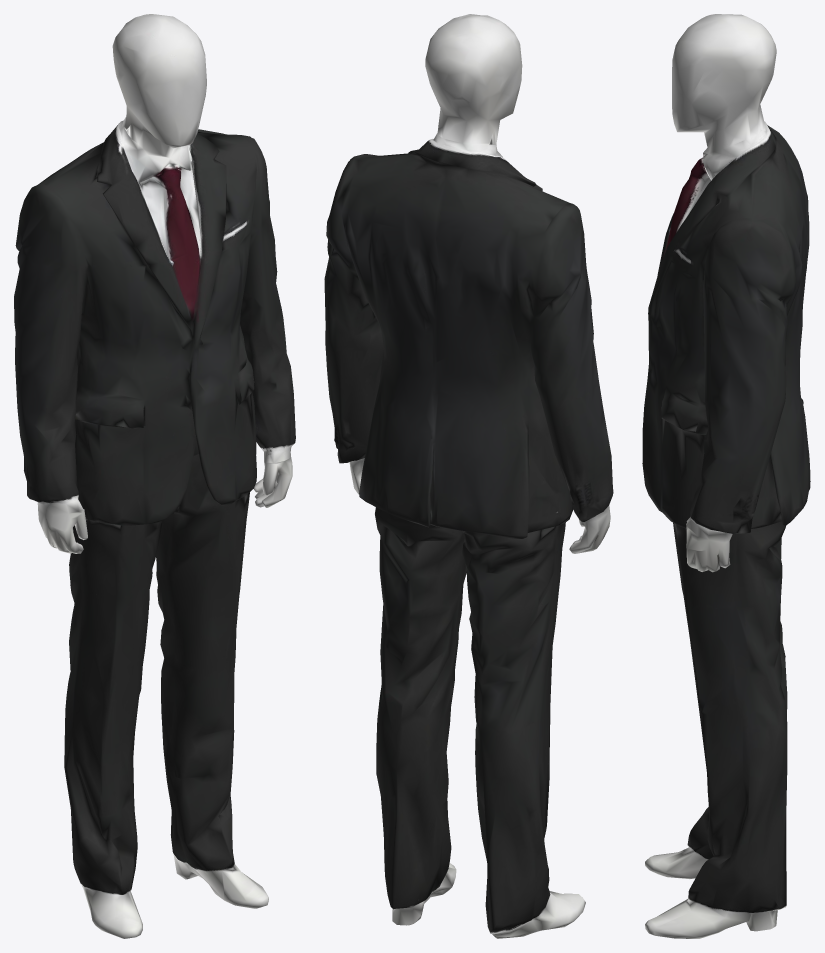
File: mannequin-suit.glb
3 renders of one model, left to right at view 1: azimuth 30°, elevation 25°; view 2: azimuth 150°, elevation 25°; view 3: azimuth 270°, elevation 25°, orthographic. The views are drawn at different scales.
Parts seen in each view (by area): view 1: tripo_node_206fcfdc-de7b-417b-9b12-4215abf30417; view 2: tripo_node_206fcfdc-de7b-417b-9b12-4215abf30417; view 3: tripo_node_206fcfdc-de7b-417b-9b12-4215abf30417.
Part boxes in pixels (x1,y1,x2,y2): tripo_node_206fcfdc-de7b-417b-9b12-4215abf30417: [14, 14, 295, 938]; tripo_node_206fcfdc-de7b-417b-9b12-4215abf30417: [324, 14, 613, 938]; tripo_node_206fcfdc-de7b-417b-9b12-4215abf30417: [642, 14, 810, 938].
Bounding box in the file's own units: 0.3027 × 0.98 × 0.1683.
Materials: 1 (1 with a texture image).
